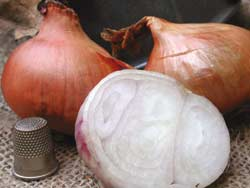onion: (76, 69, 230, 187), (2, 1, 133, 138), (97, 14, 249, 107)
